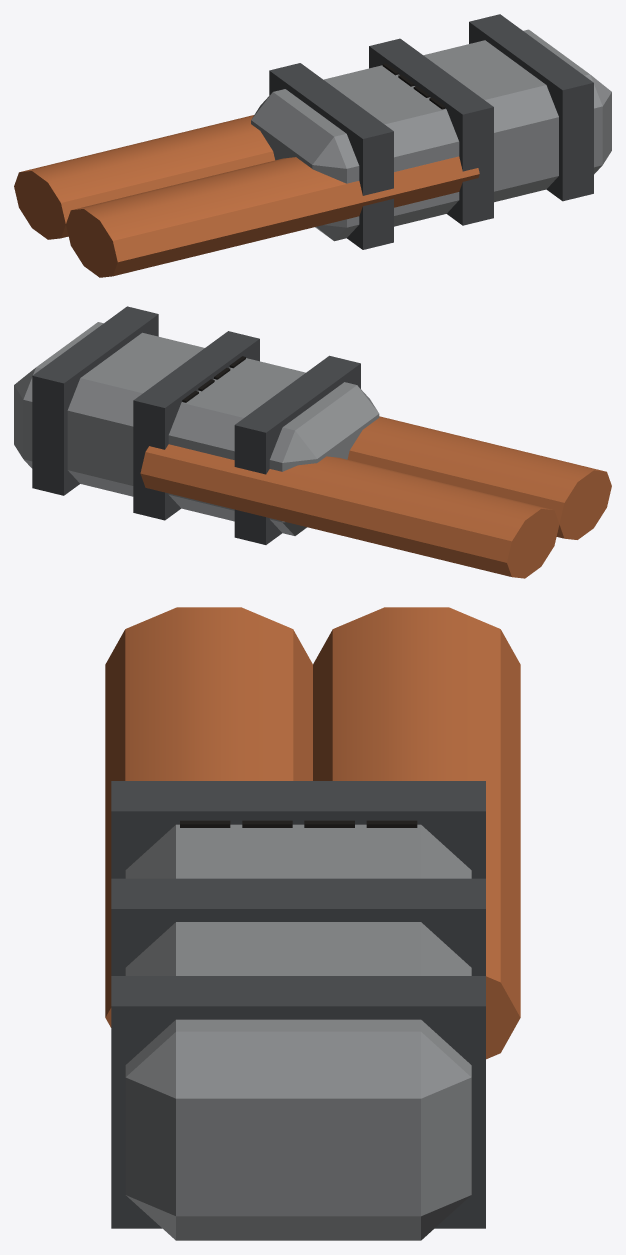
Rendered from heat-pipe-ending-left.glb.
3 renders of one model, top to bottom at view 1: azimuth 30°, elevation 25°; view 2: azimuth 150°, elevation 25°; view 3: azimuth 270°, elevation 25°, orthographic. The views are drawn at different scales.
Parts seen in each view (by area): view 1: body; view 2: body; view 3: body.
Boxes of the visible parts, <box> form: body: <box>14,14,611,277</box>; body: <box>14,306,611,578</box>; body: <box>105,607,520,1240</box>.
Size of the model in its own units: 0.82 by 0.17 by 0.288.
